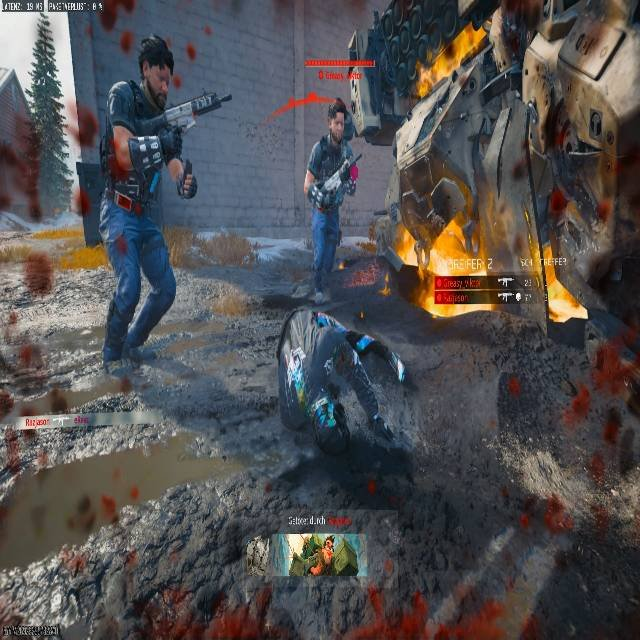head: (138, 36, 175, 99), (327, 98, 351, 142)
player: (92, 35, 222, 377), (303, 97, 361, 293)
